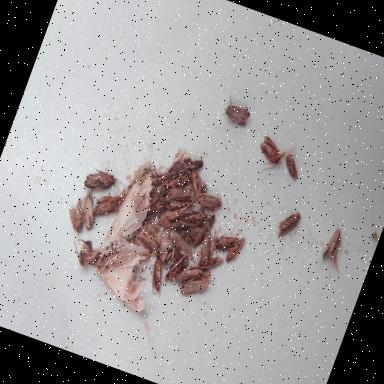pbw: (58, 196, 95, 246), (250, 136, 291, 180), (188, 185, 226, 231), (171, 266, 215, 304), (155, 162, 193, 206), (318, 227, 352, 274), (71, 190, 104, 232), (144, 254, 174, 298), (146, 160, 182, 195), (164, 190, 204, 221), (83, 166, 121, 198), (220, 96, 254, 128), (162, 250, 190, 288), (272, 207, 302, 241), (139, 190, 170, 222), (213, 225, 242, 256), (172, 262, 204, 290), (194, 230, 218, 267), (220, 232, 246, 266), (193, 211, 216, 248), (155, 204, 185, 232), (180, 204, 212, 230), (184, 170, 208, 202), (166, 178, 194, 205), (280, 153, 306, 182), (196, 250, 224, 276), (177, 154, 205, 180)
